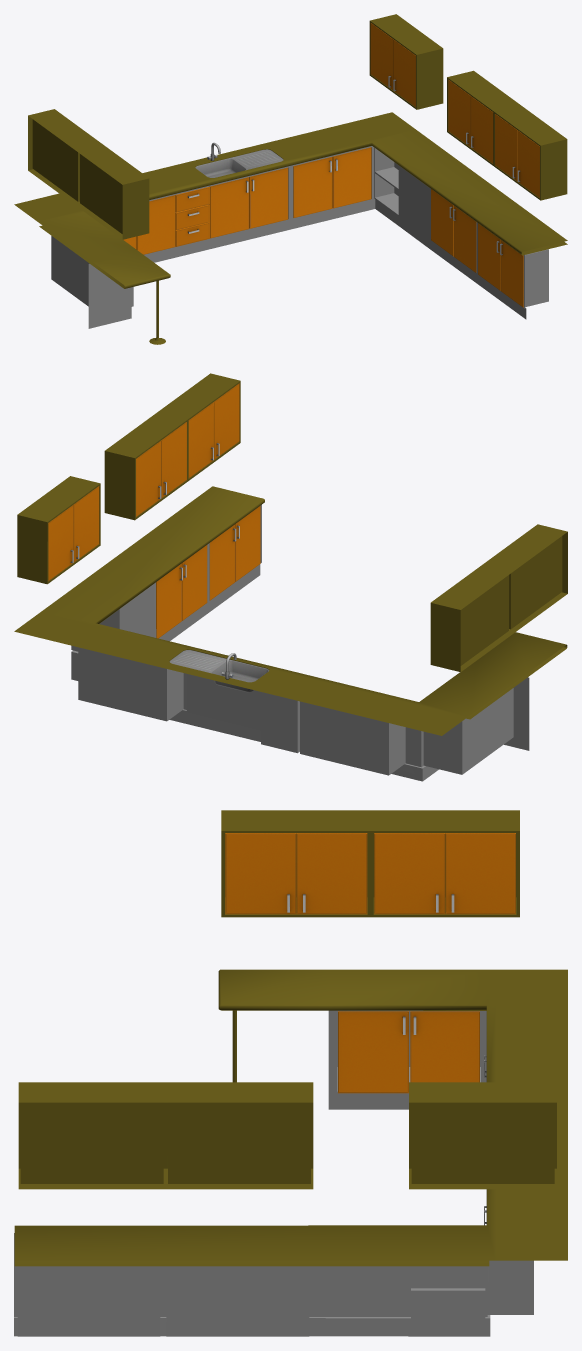
Rendered from Apartment_1_Kitchen.FBX.
The picture shows the model from 3 angles, top to bottom: view 1: azimuth 30°, elevation 25°; view 2: azimuth 150°, elevation 25°; view 3: azimuth 270°, elevation 25°; orthographic projection. The views are drawn at different scales.
Parts seen in each view (by area): view 1: Apartment_2_Kitchen_Models001; view 2: Apartment_2_Kitchen_Models001; view 3: Apartment_2_Kitchen_Models001.
Part boxes in pixels (box(x1,y1,x2,y2)): Apartment_2_Kitchen_Models001: box(14, 14, 567, 344); Apartment_2_Kitchen_Models001: box(14, 373, 567, 781); Apartment_2_Kitchen_Models001: box(14, 810, 567, 1336).
Bounding box in the file's own units: 518 × 220 × 415.
